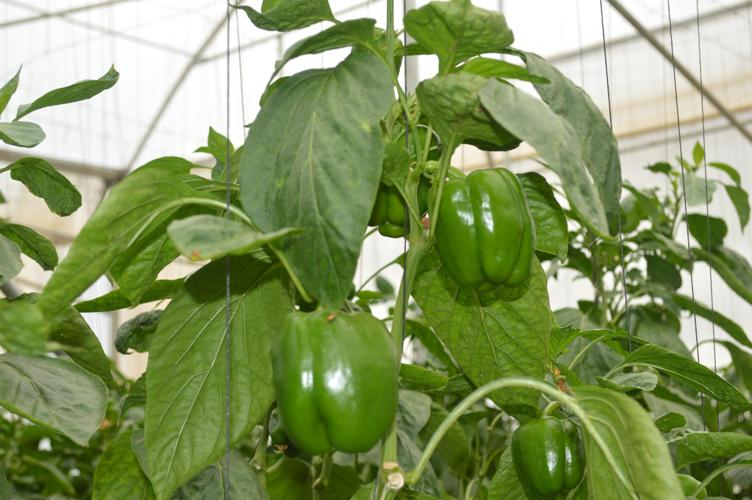BellPepper: (264, 301, 413, 453), (429, 167, 538, 285), (516, 411, 584, 500)
